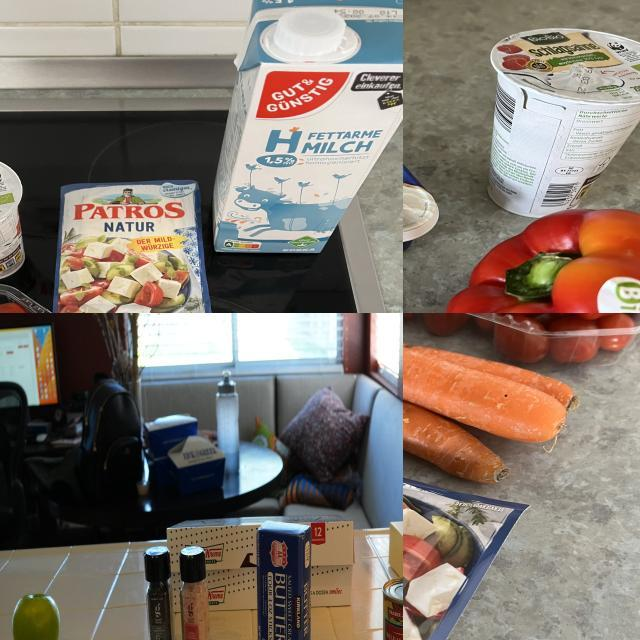bell_pepper: (449, 198, 640, 314), (141, 544, 179, 640)
carrot: (404, 349, 608, 457), (404, 402, 567, 512)
